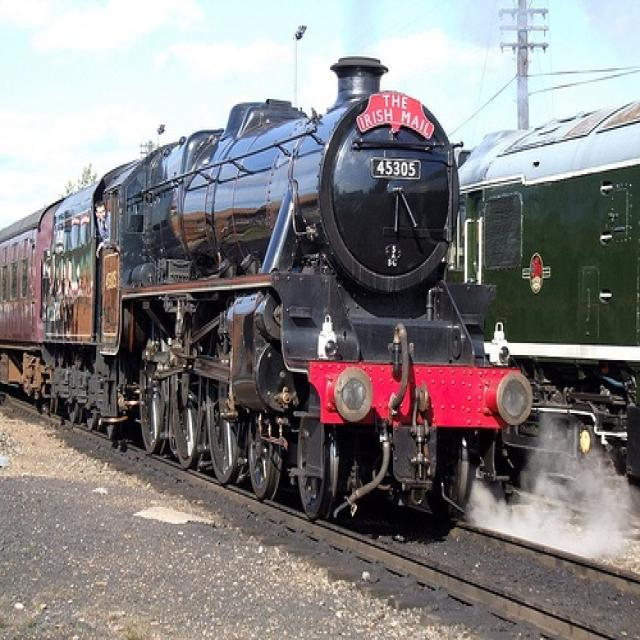train: (0, 60, 529, 536), (436, 98, 638, 510)
